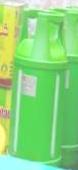cylinder: (1, 0, 78, 170)
